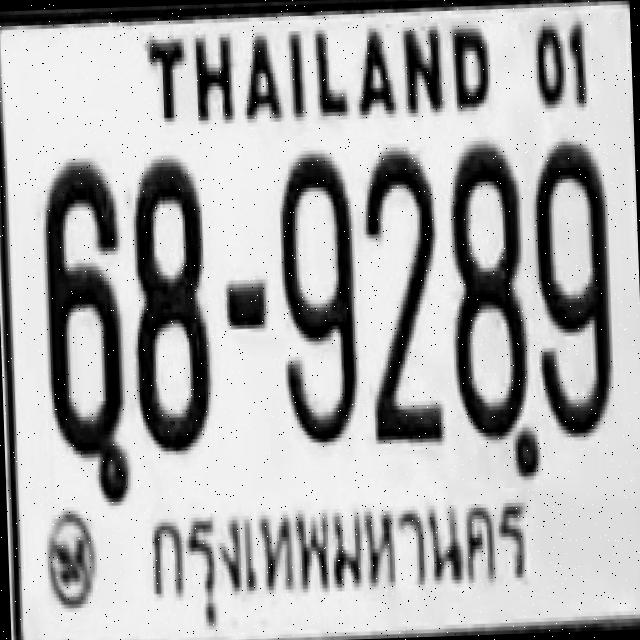2: (359, 146, 440, 444)
6: (38, 157, 128, 500), (40, 158, 126, 462)
8: (444, 140, 528, 438), (128, 156, 212, 450)
9: (274, 148, 358, 442), (530, 137, 611, 436)
Bangkok: (136, 482, 544, 636)
